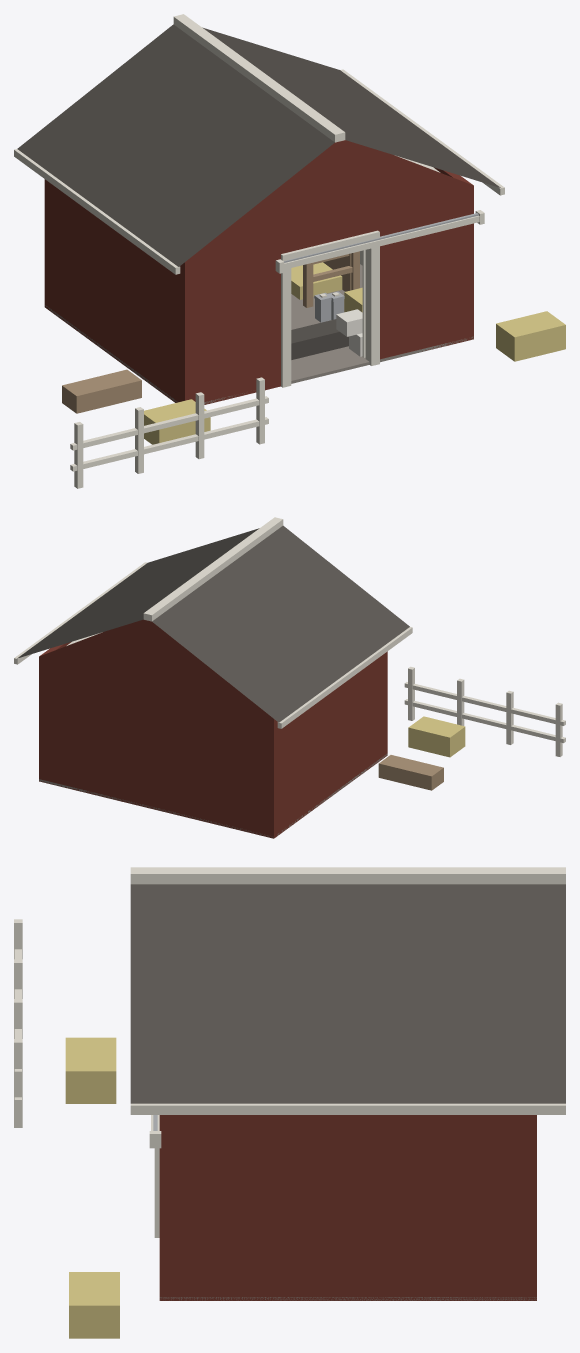
Rendered from rv_barn.gltf.
3 views of the same model, one above another, from view 1: azimuth 30°, elevation 25°; view 2: azimuth 150°, elevation 25°; view 3: azimuth 270°, elevation 25° (orthographic). The views are drawn at different scales.
Parts seen in each view (by area): view 1: RV_Barn; view 2: RV_Barn; view 3: RV_Barn.
Part boxes in pixels (left/top/right/bottom): RV_Barn: left=14, top=14, right=565, bottom=488; RV_Barn: left=14, top=517, right=565, bottom=838; RV_Barn: left=14, top=867, right=565, bottom=1338.
Size of the model in its own units: 11 by 5.71 by 7.61.
